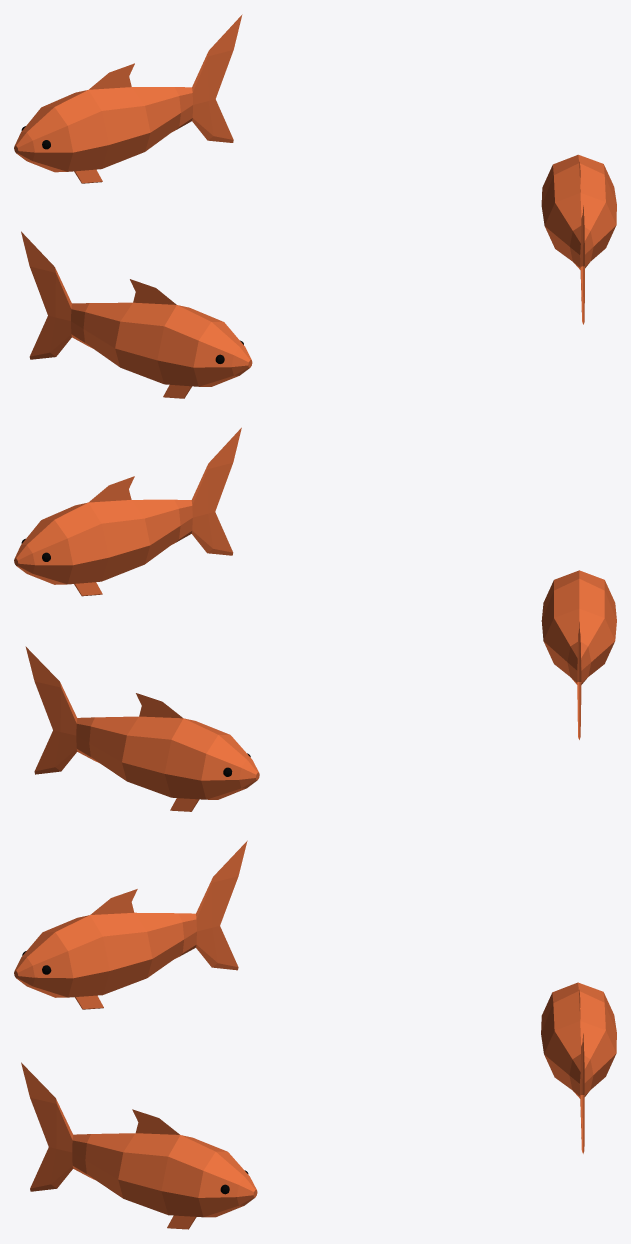
File: ThreeFish.glb
The picture shows the model from 3 angles, top to bottom: view 1: azimuth 30°, elevation 25°; view 2: azimuth 150°, elevation 25°; view 3: azimuth 270°, elevation 25°; orthographic projection.
Visible parts, largest first — view 1: Circle.002, Circle.001, Circle; view 2: Circle.001, Circle, Circle.002; view 3: Circle, Circle.002, Circle.001.
Boxes of the visible parts, x1=… form: Circle.002: x1=21, y1=231, x2=252, y2=398; Circle.001: x1=14, y1=14, x2=242, y2=183; Circle: x1=541, y1=154, x2=616, y2=324; Circle.001: x1=25, y1=646, x2=259, y2=811; Circle: x1=14, y1=427, x2=241, y2=596; Circle.002: x1=541, y1=570, x2=616, y2=739; Circle: x1=21, y1=1062, x2=257, y2=1229; Circle.002: x1=14, y1=840, x2=247, y2=1009; Circle.001: x1=541, y1=982, x2=616, y2=1153.
Bounding box in the file's own units: 18.26 × 3.88 × 16.62.
